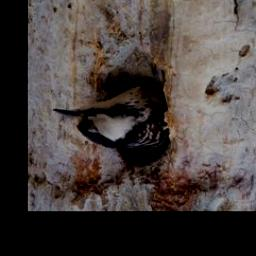Woodpecker: (54, 82, 167, 155)
